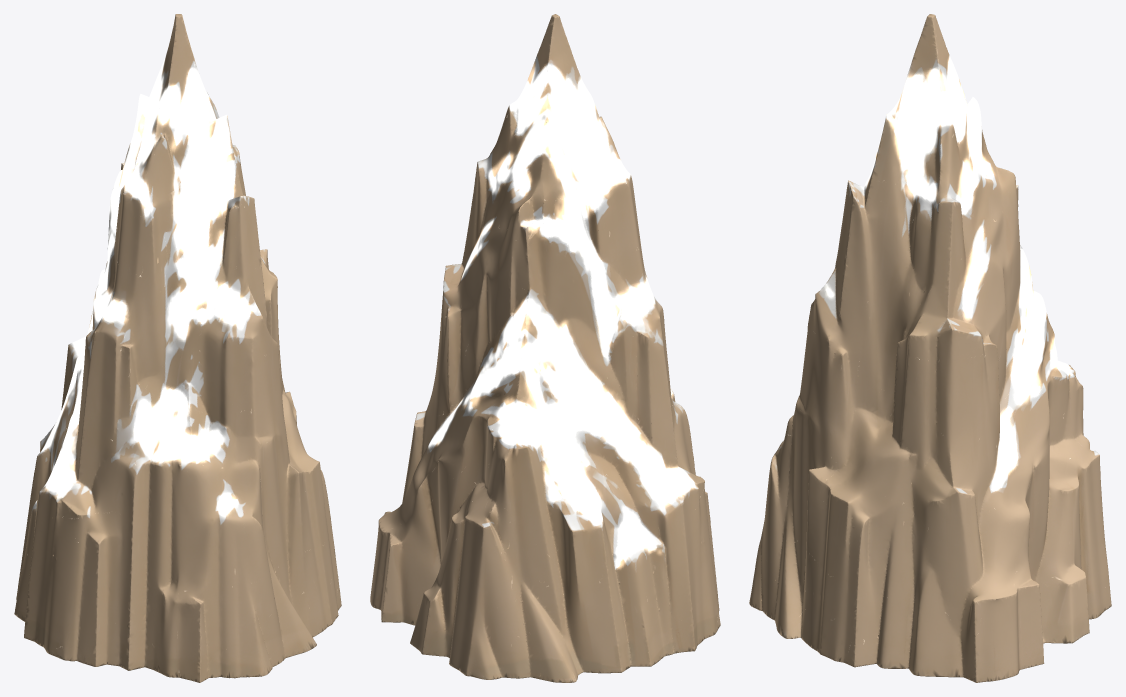
File: Meshy_AI_Snowcrest_Peak_0516154421_texture.fbx
3 renders of one model, left to right at view 1: azimuth 30°, elevation 25°; view 2: azimuth 150°, elevation 25°; view 3: azimuth 270°, elevation 25°, orthographic.
Visible parts, largest first — view 1: Mesh_0; view 2: Mesh_0; view 3: Mesh_0.
Boxes of the visible parts, x1=… form: Mesh_0: x1=14, y1=14, x2=341, y2=682; Mesh_0: x1=370, y1=14, x2=720, y2=682; Mesh_0: x1=749, y1=14, x2=1111, y2=682.
Bounding box in the file's own units: 102 × 190 × 105.
1 material, 1 textured.
